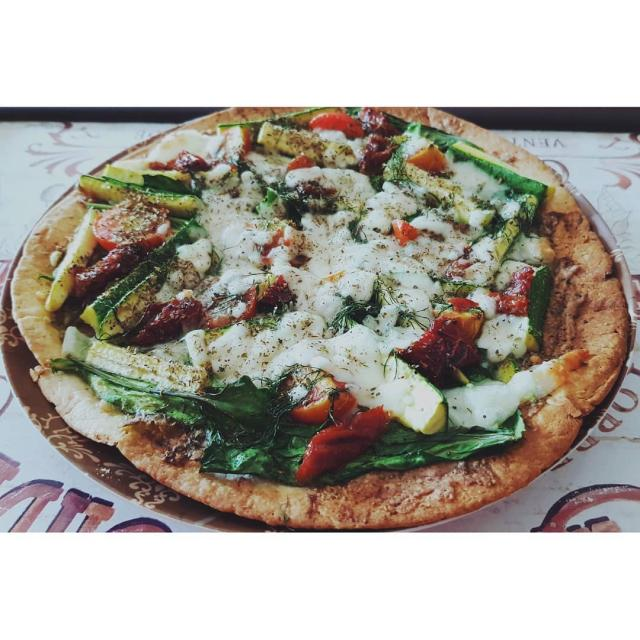pizza: (9, 106, 640, 534)
tomatoes: (90, 201, 172, 248), (281, 370, 356, 420), (434, 297, 483, 345), (246, 222, 298, 262), (310, 110, 366, 140), (212, 287, 258, 323), (391, 218, 427, 244)
